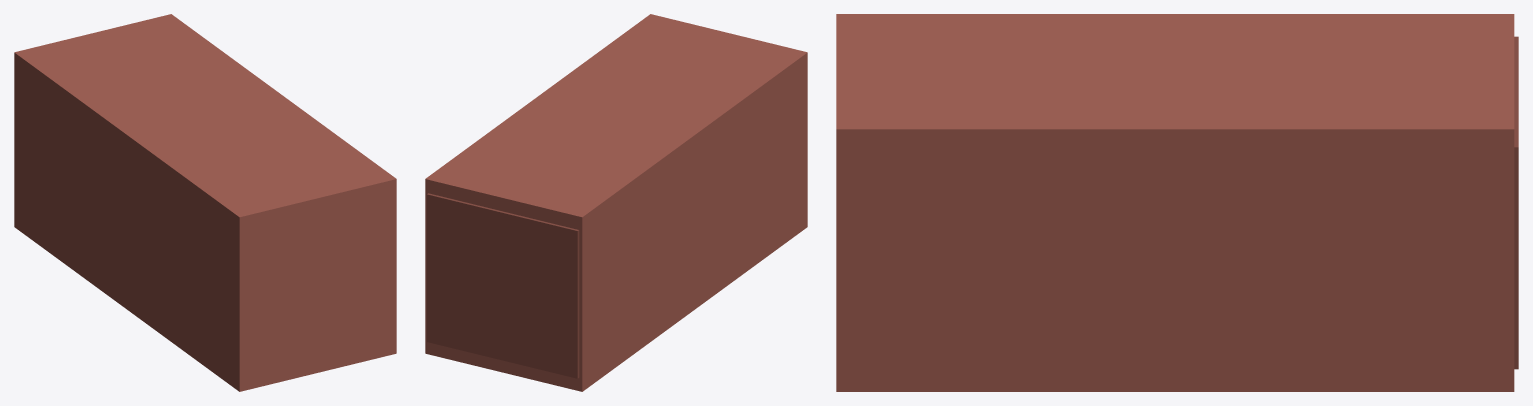
File: hk-container-20ft.glb
3 views of the same model, side by side, from view 1: azimuth 30°, elevation 25°; view 2: azimuth 150°, elevation 25°; view 3: azimuth 270°, elevation 25° (orthographic). The views are drawn at different scales.
Visible parts, largest first — view 1: cont-20; view 2: cont-20; view 3: cont-20.
Part boxes in pixels (x1=…): cont-20: x1=14, y1=14, x2=396, y2=391; cont-20: x1=425, y1=14, x2=807, y2=391; cont-20: x1=836, y1=14, x2=1518, y2=391.
Bounding box in the file's own units: 2.44 × 2.59 × 6.1.
